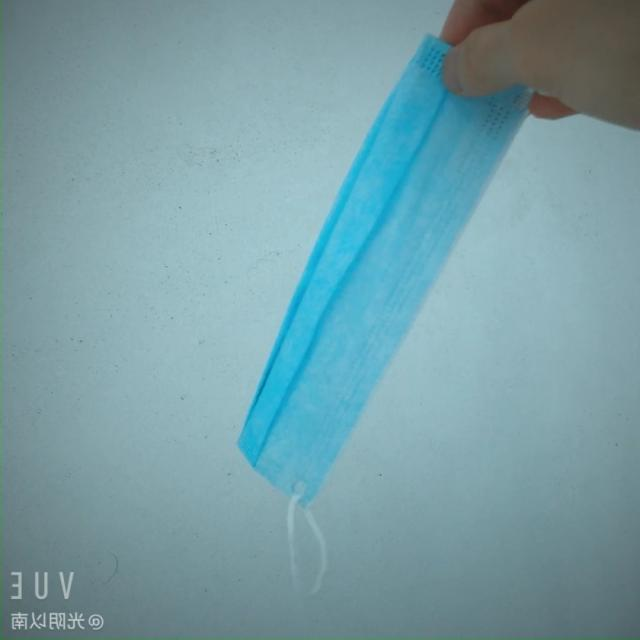face mask: (228, 43, 502, 510)
